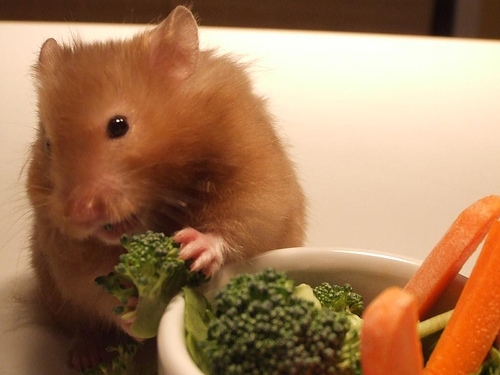broccoli: (190, 266, 456, 374), (112, 230, 186, 340)
